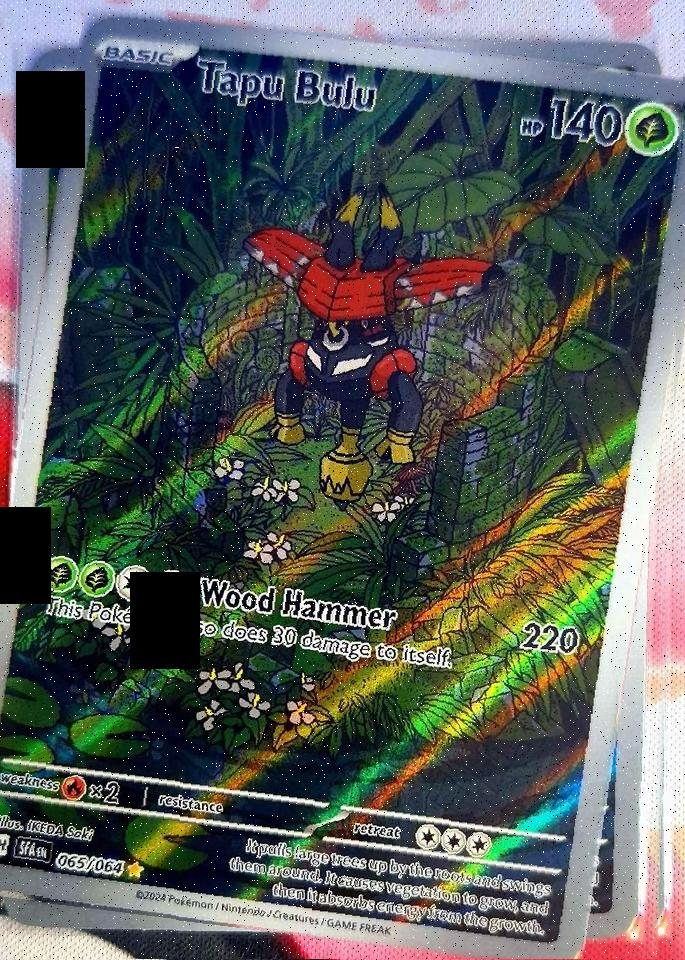card: (0, 18, 683, 959)
